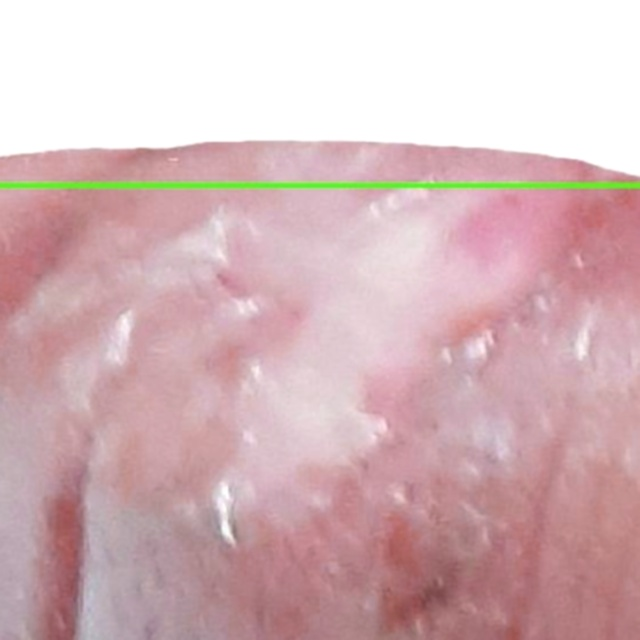Contact Dermatitis: (0, 0, 639, 185)
